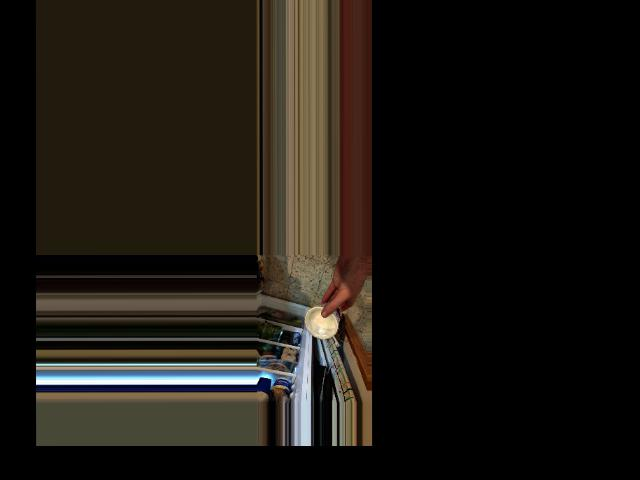cotage: (304, 298, 347, 340)
